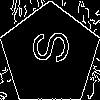S: (25, 30, 68, 64)
